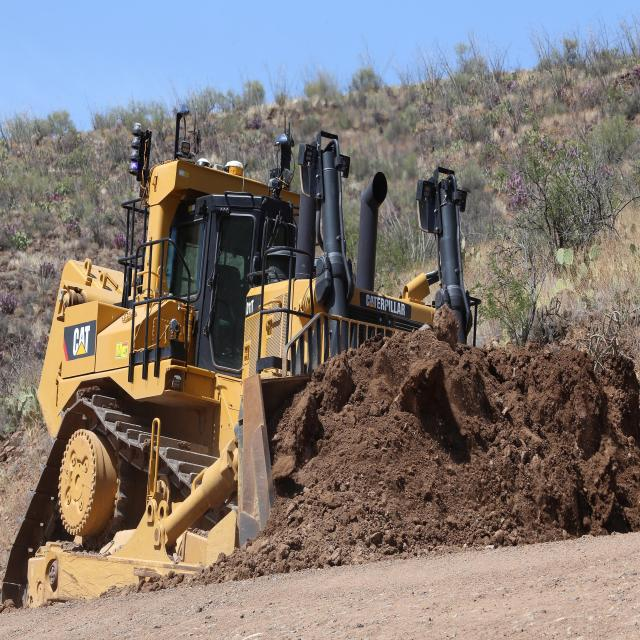buldozerpayloadergrader: (2, 126, 489, 608)
